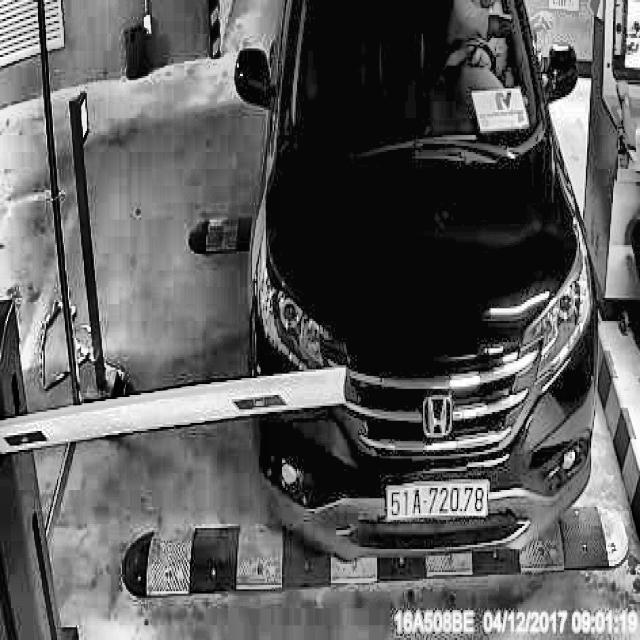plate: (382, 477, 492, 525)
